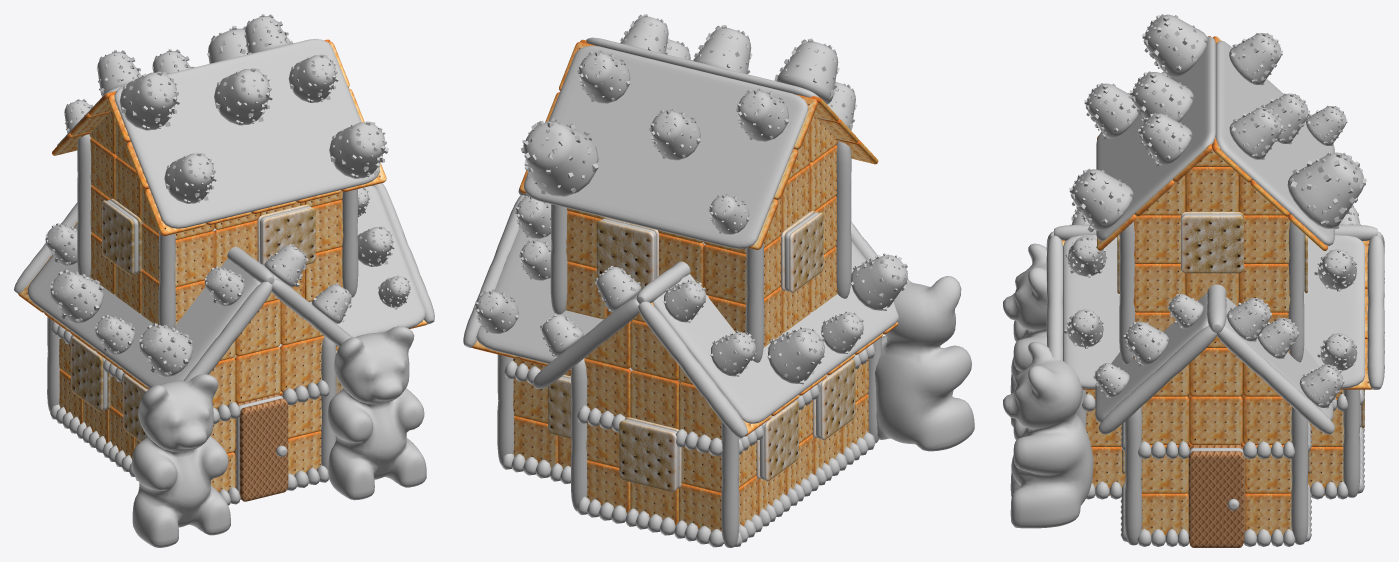
Rendered from cw_house_20.fbx.
3 renders of one model, left to right at view 1: azimuth 30°, elevation 25°; view 2: azimuth 150°, elevation 25°; view 3: azimuth 270°, elevation 25°, orthographic. The views are drawn at different scales.
Parts seen in each view (by area): view 1: cw_house_20; view 2: cw_house_20; view 3: cw_house_20.
Part boxes in pixels (bbox=[...]): cw_house_20: bbox=[14, 14, 434, 547]; cw_house_20: bbox=[463, 14, 974, 547]; cw_house_20: bbox=[1003, 14, 1384, 547].
Size of the model in its own units: 787 by 929 by 770.
